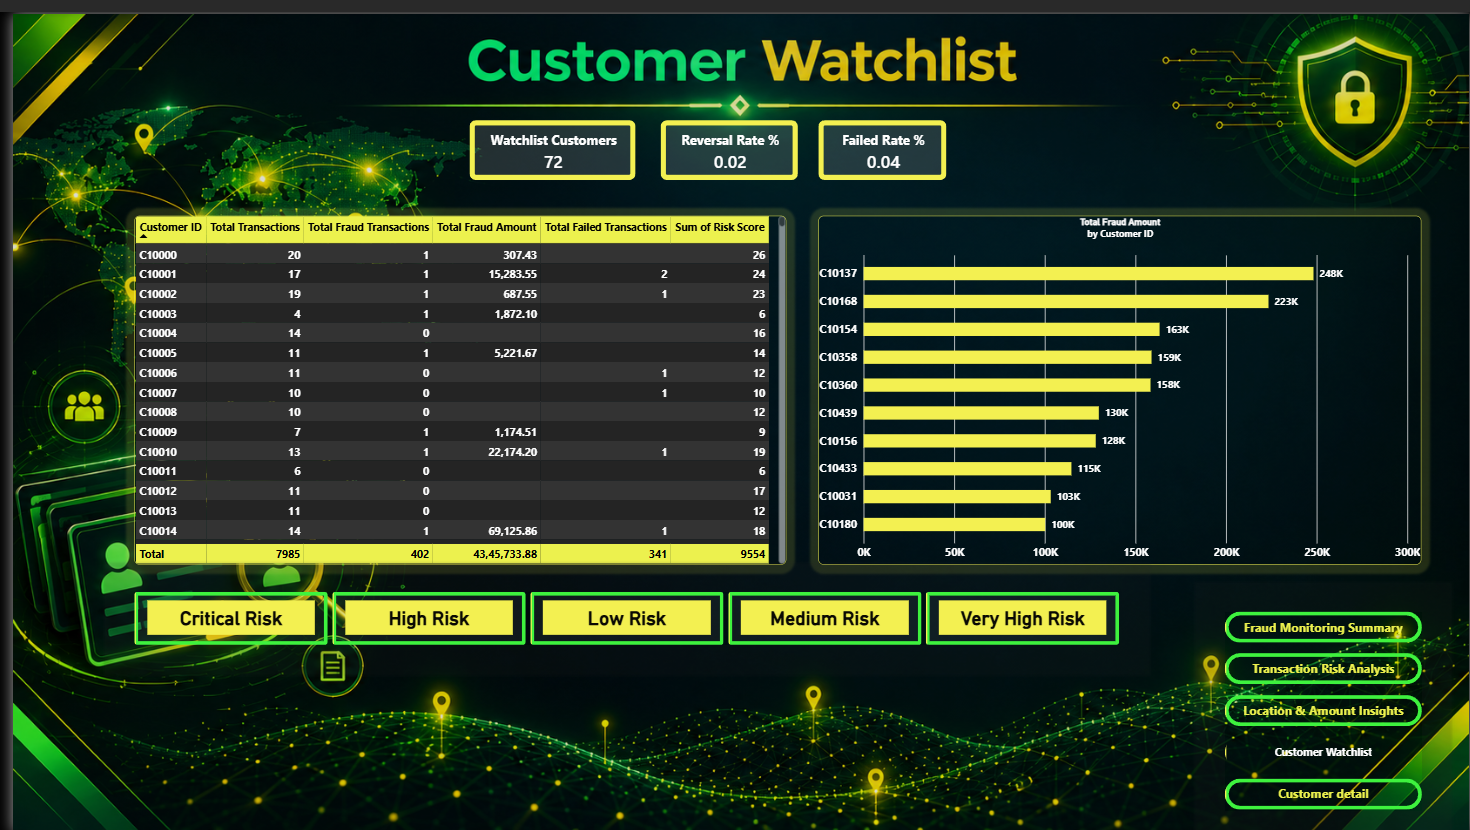

The dashboard page shown, as its layout file describes it:
{"tool":"powerbi","page":{"name":"Customer Watchlist","canvas":[1920,1080],"ordinal":3},"visuals":[{"type":"cardVisual","fields":{"Data":["Transactions.Watchlist Customers"]},"box":[601,140,219,79],"z":0},{"type":"cardVisual","fields":{"Data":["Transactions.Failed Rate %"]},"box":[1061.4,140,169,79],"z":1000},{"type":"cardVisual","fields":{"Data":["Transactions.Reversal Rate %"]},"box":[854.3,140,181,79],"z":2000},{"type":"tableEx","fields":{"Values":["Transactions.Customer ID","Transactions.Total Transactions","Transactions.Total Fraud Transactions","Transactions.Total Fraud Amount","Transactions.Total Failed Transactions","Sum(Transactions.Risk Score)"]},"box":[171.1,265.6,860,460],"z":3000},{"type":"clusteredBarChart","fields":{"Category":["Transactions.Customer ID"],"Y":["Transactions.Total Fraud Amount"]},"box":[1062.5,265,795,460],"z":3001},{"type":"advancedSlicerVisual","fields":{"Values":["Transactions.Risk Category"]},"box":[160,762.5,1300,70],"z":3005},{"type":"pageNavigator","box":[1597.5,788.8,260,262.5],"z":3006}]}

Visuals, with their boxes in screenshot pixels (x1, y1, x2, y2), scaled from the page's 1920x1080 canvas onto the 1470x830 screenshot:
cardVisual - Transactions.Watchlist Customers: 460/108/628/168
cardVisual - Transactions.Failed Rate %: 813/108/942/168
cardVisual - Transactions.Reversal Rate %: 654/108/793/168
tableEx - Transactions.Customer ID x Transactions.Total Transactions: 131/204/789/558
clusteredBarChart - Transactions.Customer ID x Transactions.Total Fraud Amount: 813/204/1422/557
advancedSlicerVisual - Transactions.Risk Category: 122/586/1118/640
pageNavigator: 1223/606/1422/808
